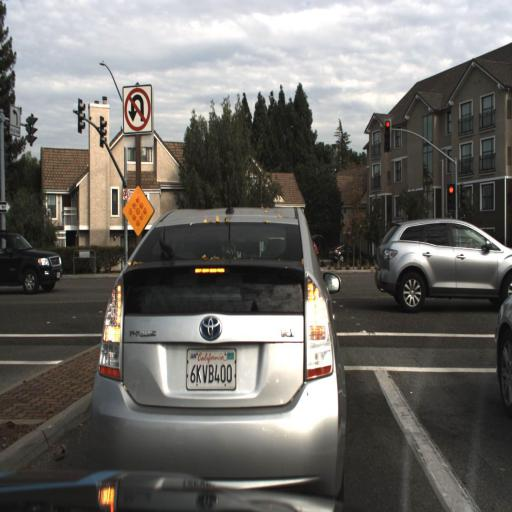car: (84, 201, 350, 479), (374, 218, 512, 314), (0, 229, 64, 294), (490, 272, 511, 424)
trafficLight-Red: (380, 112, 393, 154), (444, 177, 458, 214)
